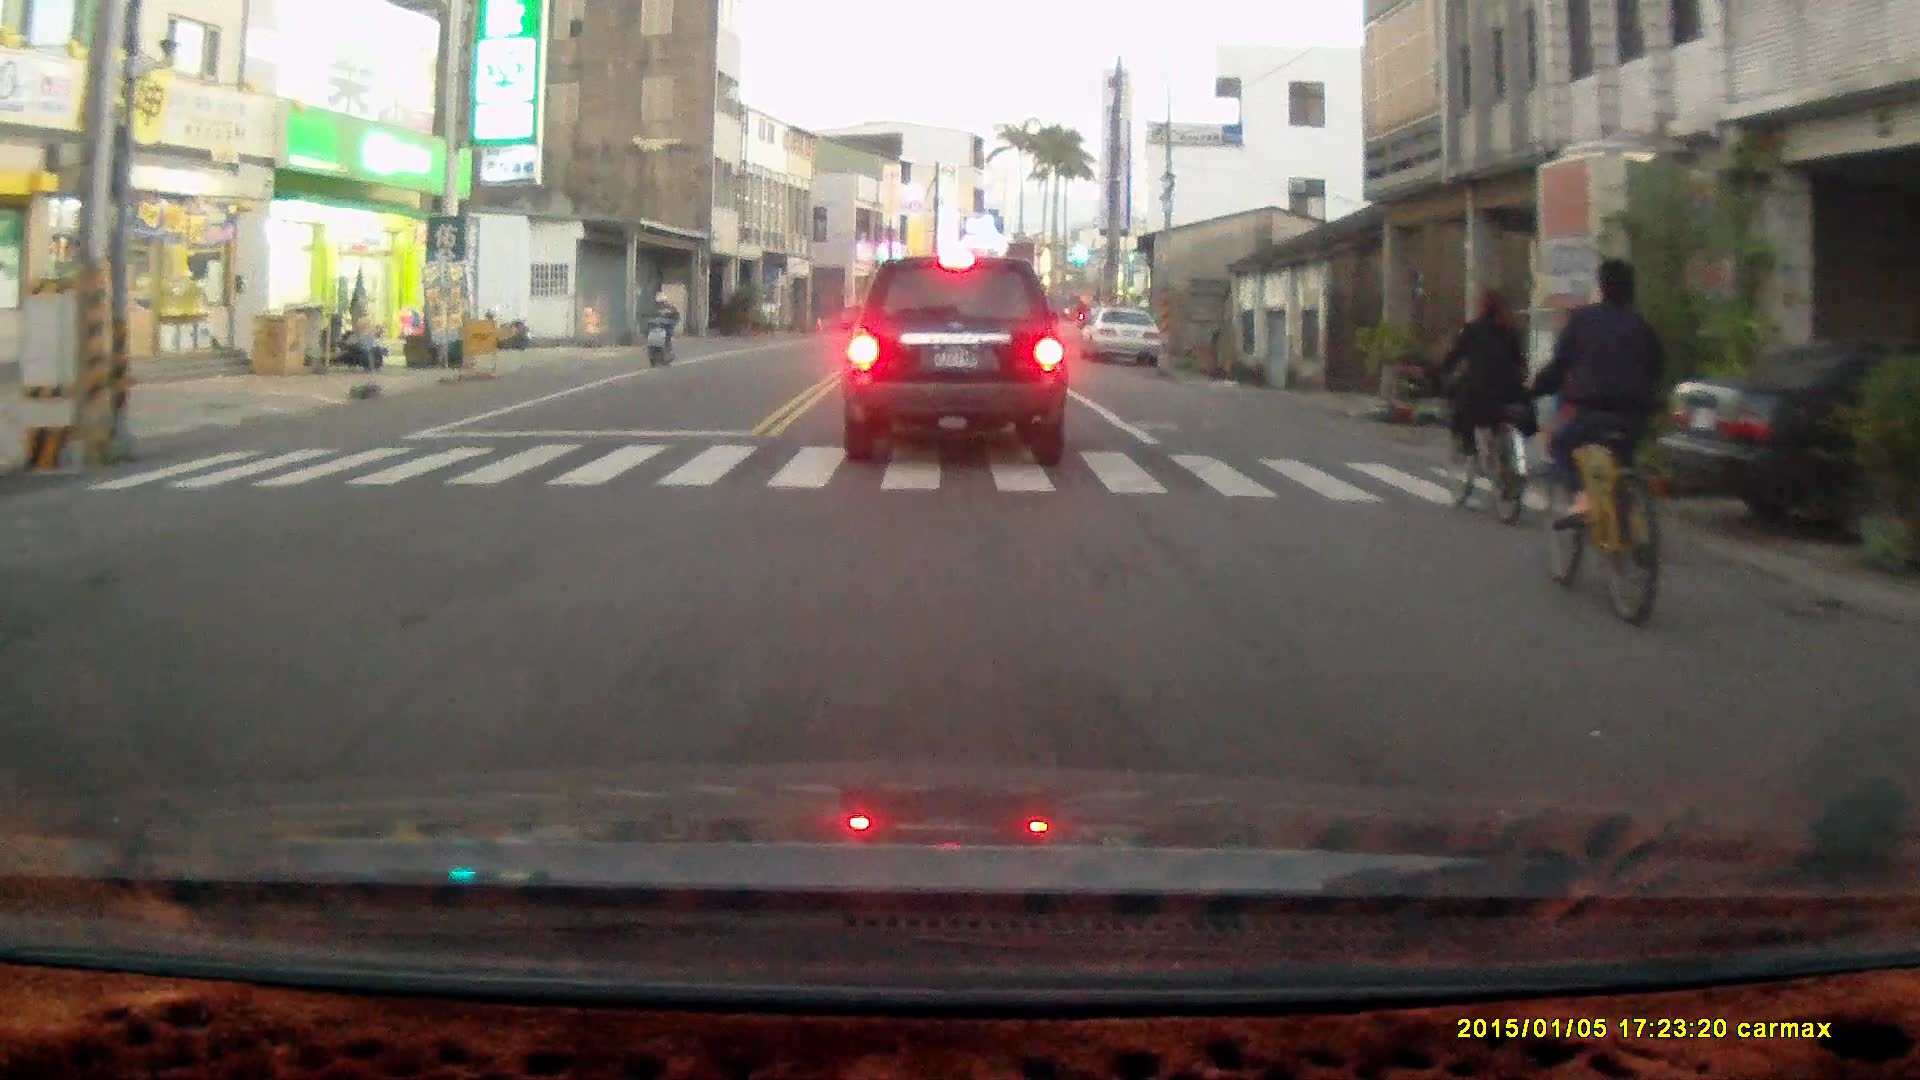rider: (1520, 252, 1672, 628), (1428, 283, 1540, 529), (641, 288, 678, 369)
vehicle: (1652, 343, 1920, 543), (837, 246, 1080, 464), (1088, 309, 1165, 368)
